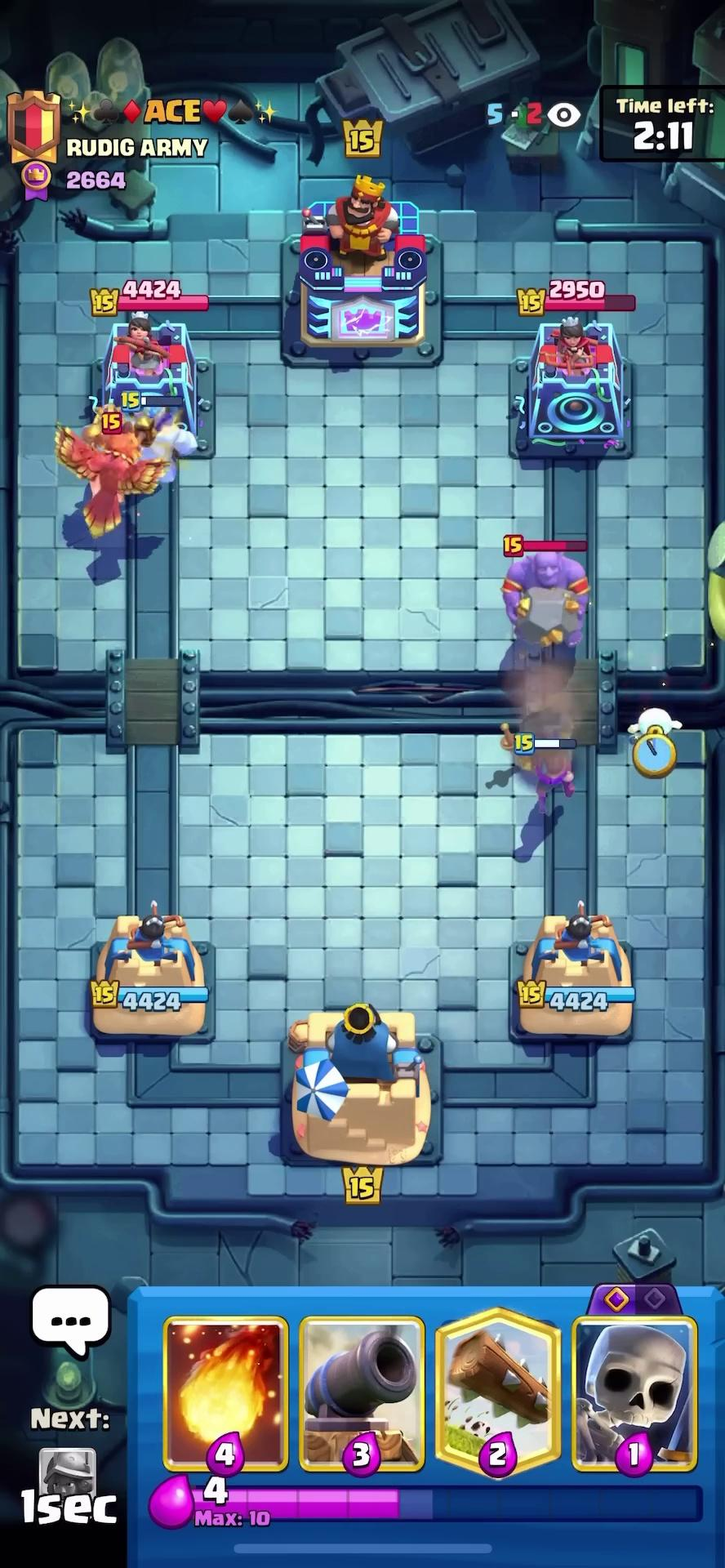ice_golem: (116, 396, 198, 476)
ice_spirit: (604, 694, 690, 755)
musketeer: (512, 729, 588, 806)
